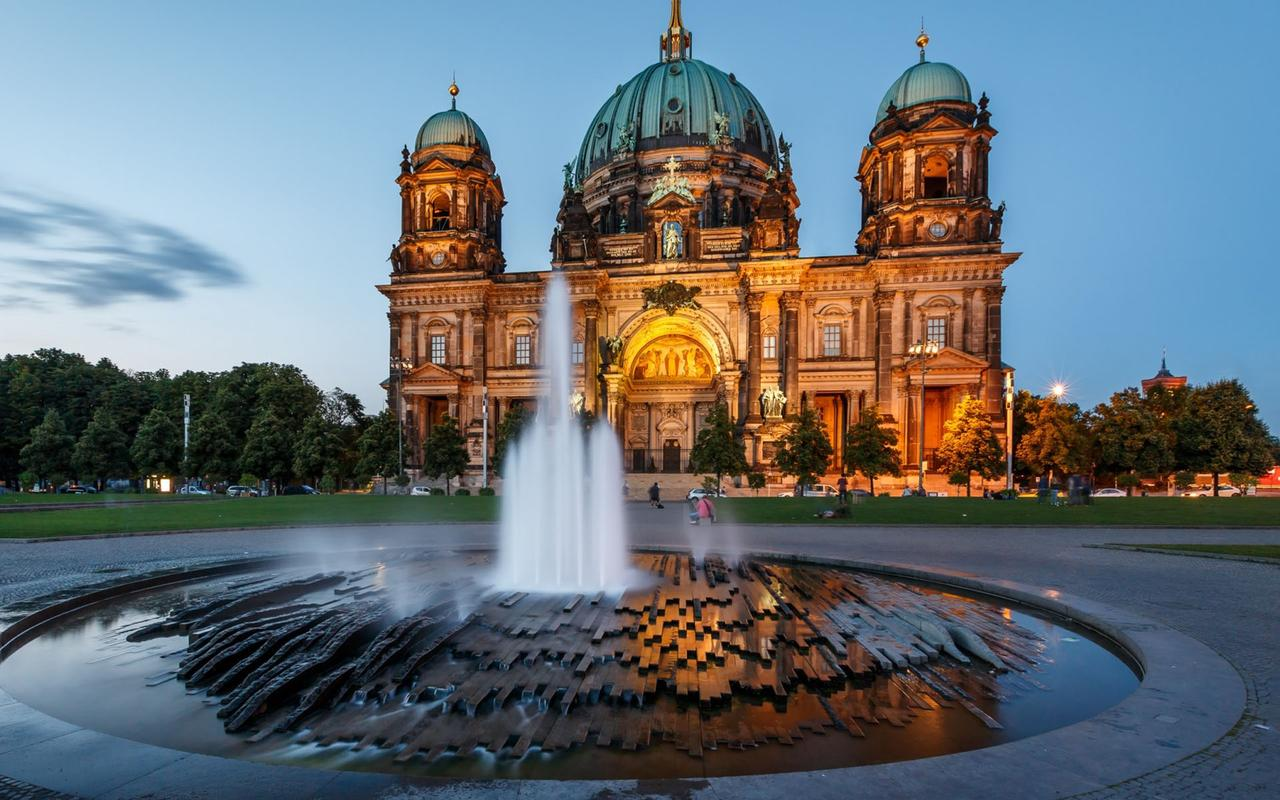buildings: (443, 60, 1079, 517), (551, 51, 818, 515), (771, 37, 1029, 492), (353, 83, 554, 520)
sky_cloud: (51, 52, 315, 324)
